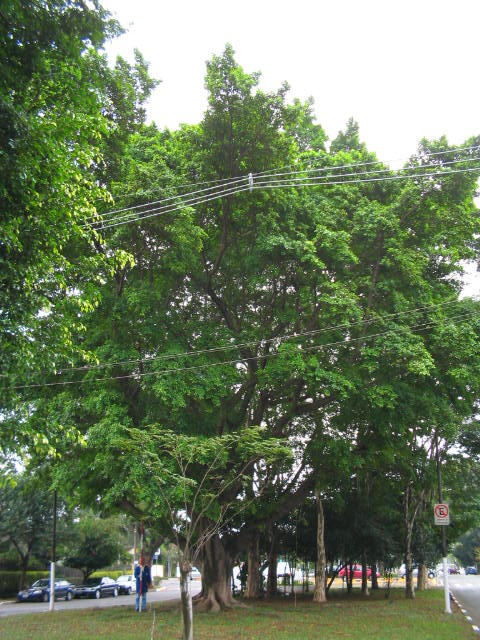crown: (14, 48, 460, 532)
stem: (187, 555, 244, 612)
stick: (132, 517, 146, 613)
tree: (12, 47, 460, 614)
